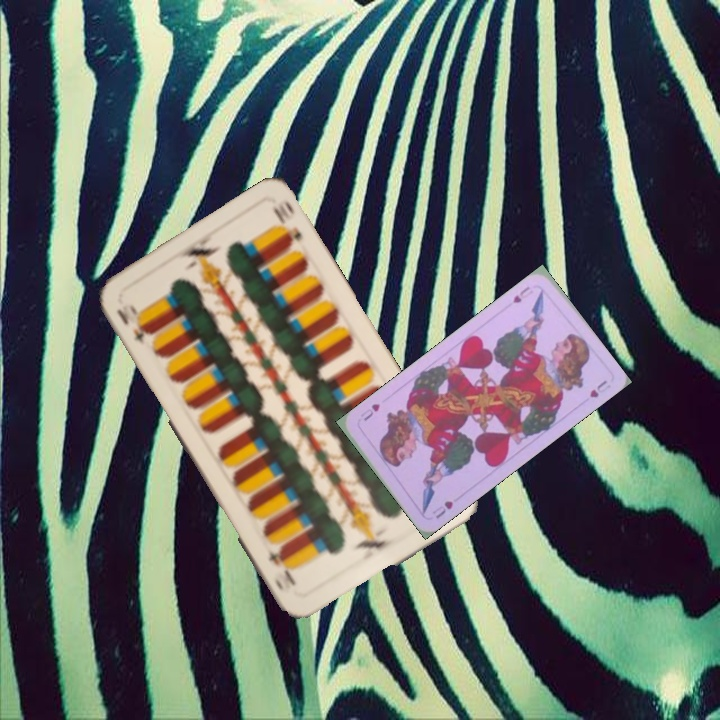E10: (112, 300, 153, 347)
HU: (428, 496, 456, 522), (508, 282, 536, 306)
